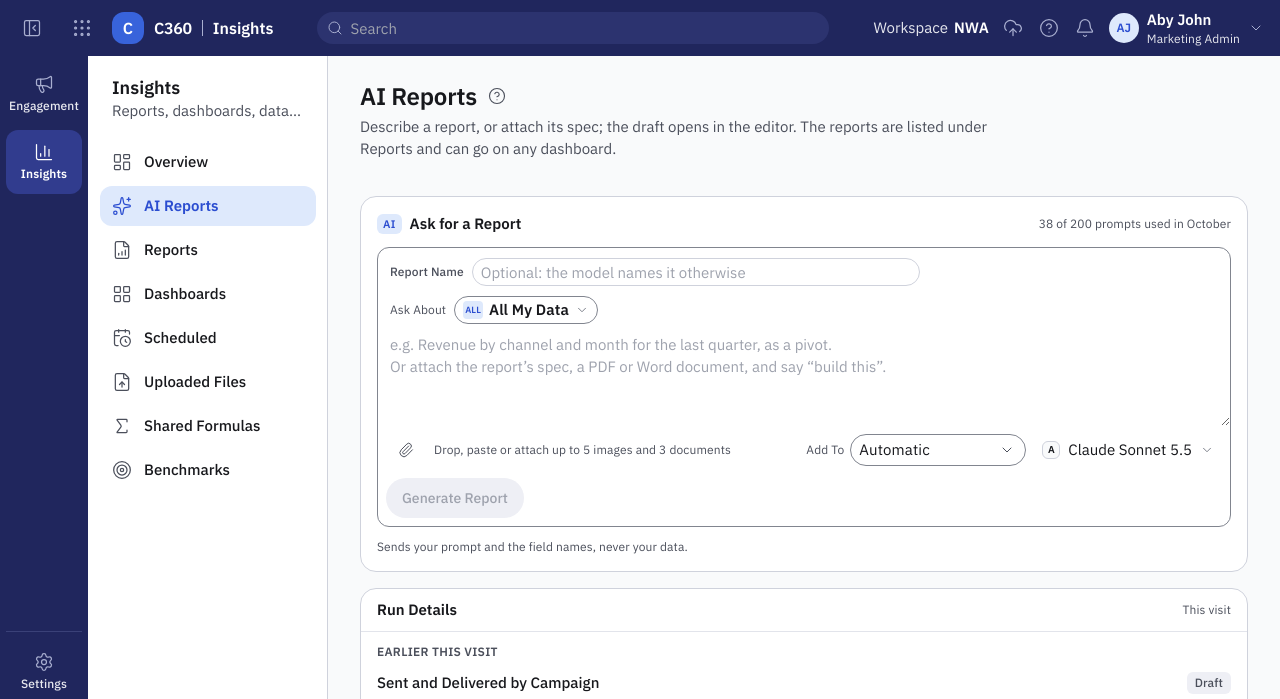
Test case: no field for it: the message and the closest prompts; a failure says so with Try Again
This screenshot has width=1280, height=699.
Type "Website visits by campaign" into the text box named "What do you want to see?".
click(804, 375); type("Website visits by campaign")  # box [378,324,1230,426]
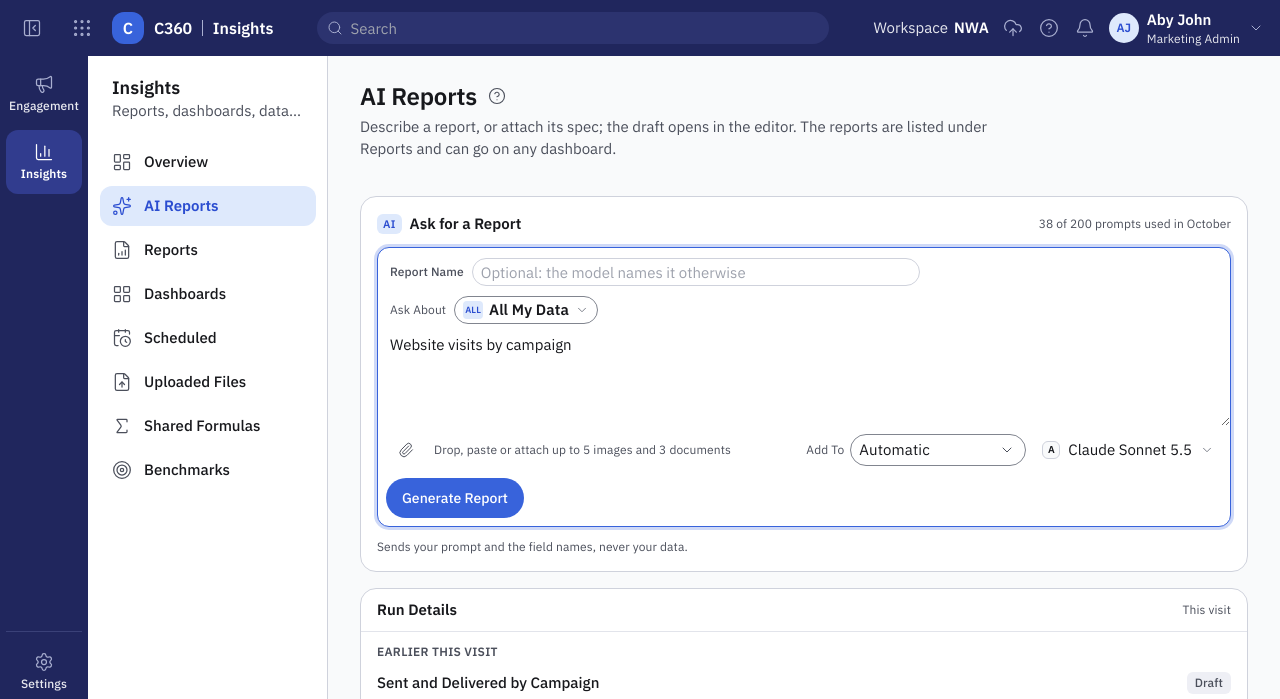
Click the button "Generate Report".
click(455, 498)  # box [386,478,524,518]
(page scrolled)
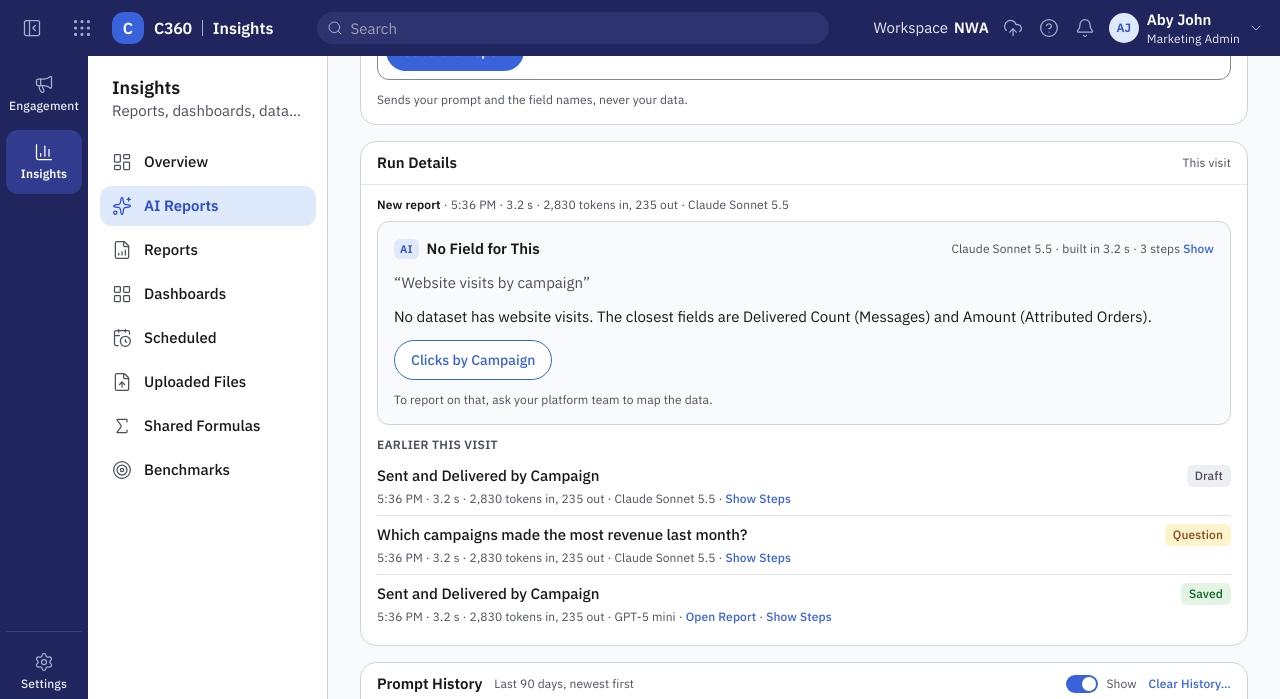
Expected: the button "Open in Editor" is not shown
Expected: the text "No dataset has website visits" is shown, [394,307,1152,326]
Expected: the button "Clicks by Campaign" is shown
Click the button "Clicks by Campaign".
click(473, 360)  # box [394,340,552,380]
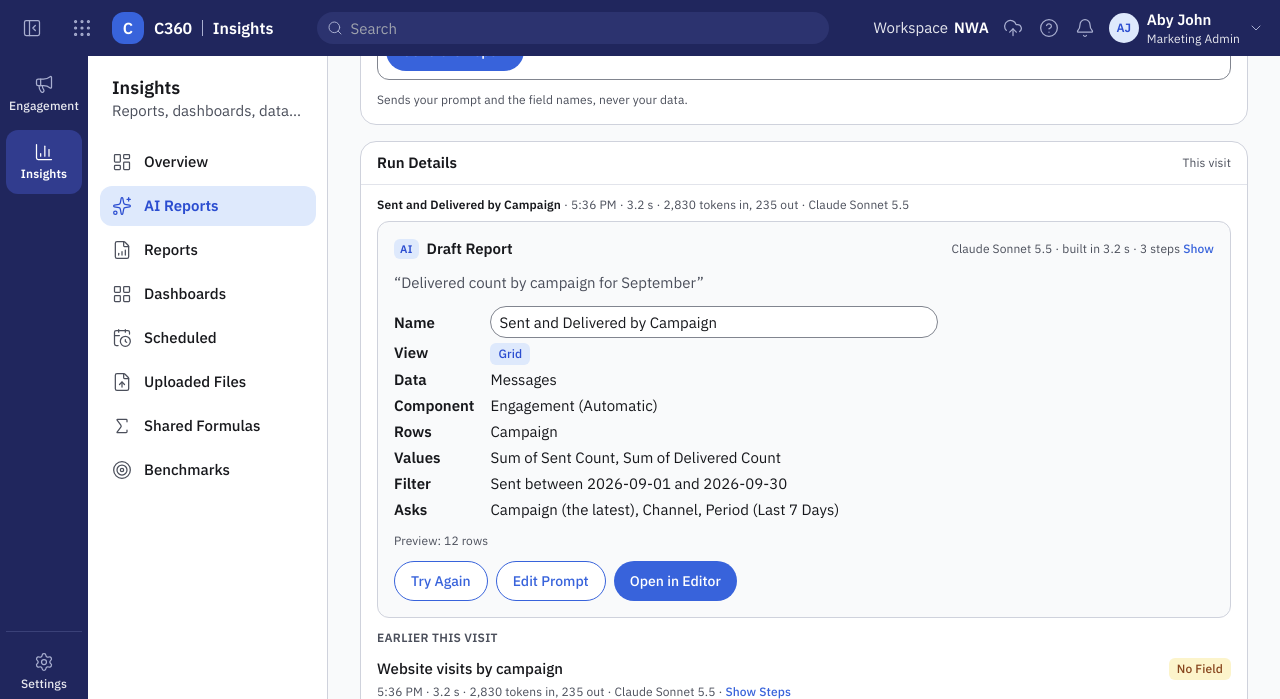
Expected: the element "Draft Report" is shown, [377,221,1231,618]
